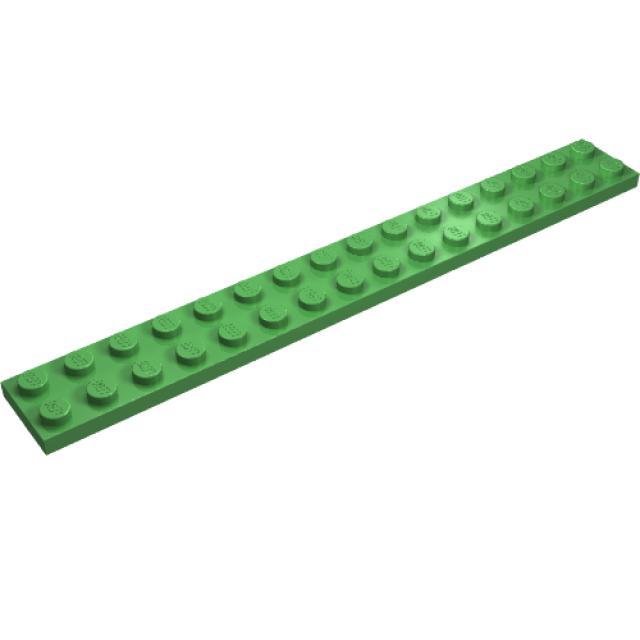Green_Large: (0, 140, 640, 457)
